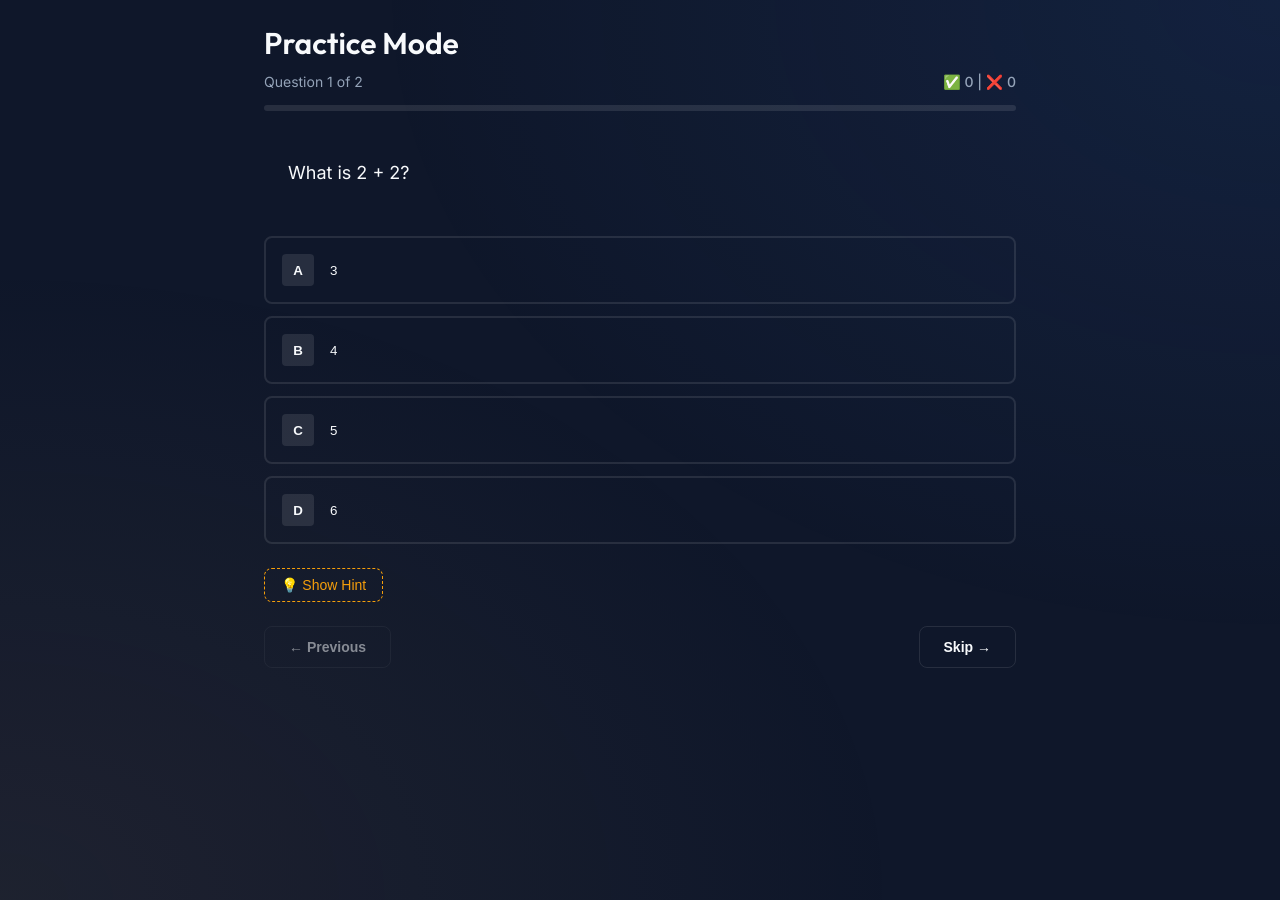
PracticeMode › shows explanation after checking answer
What coordinates should you click on to do the following:
click the button "B 4"
I would click on:
 (298, 350)
Its box is [264,316,1016,384].
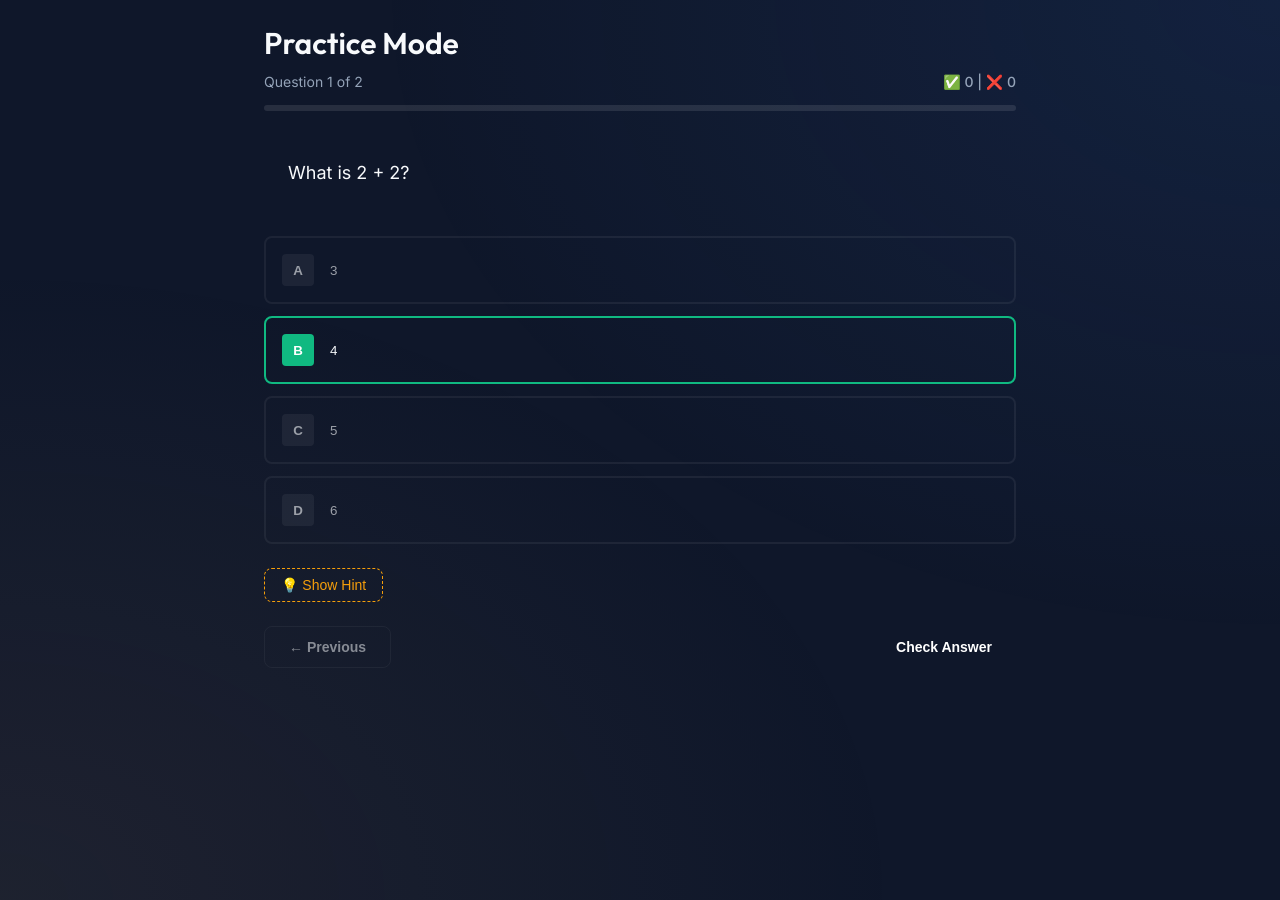
What coordinates should you click on to do the following:
click the button "Check Answer"
I would click on:
 (944, 647)
Its box is [872,626,1016,668].
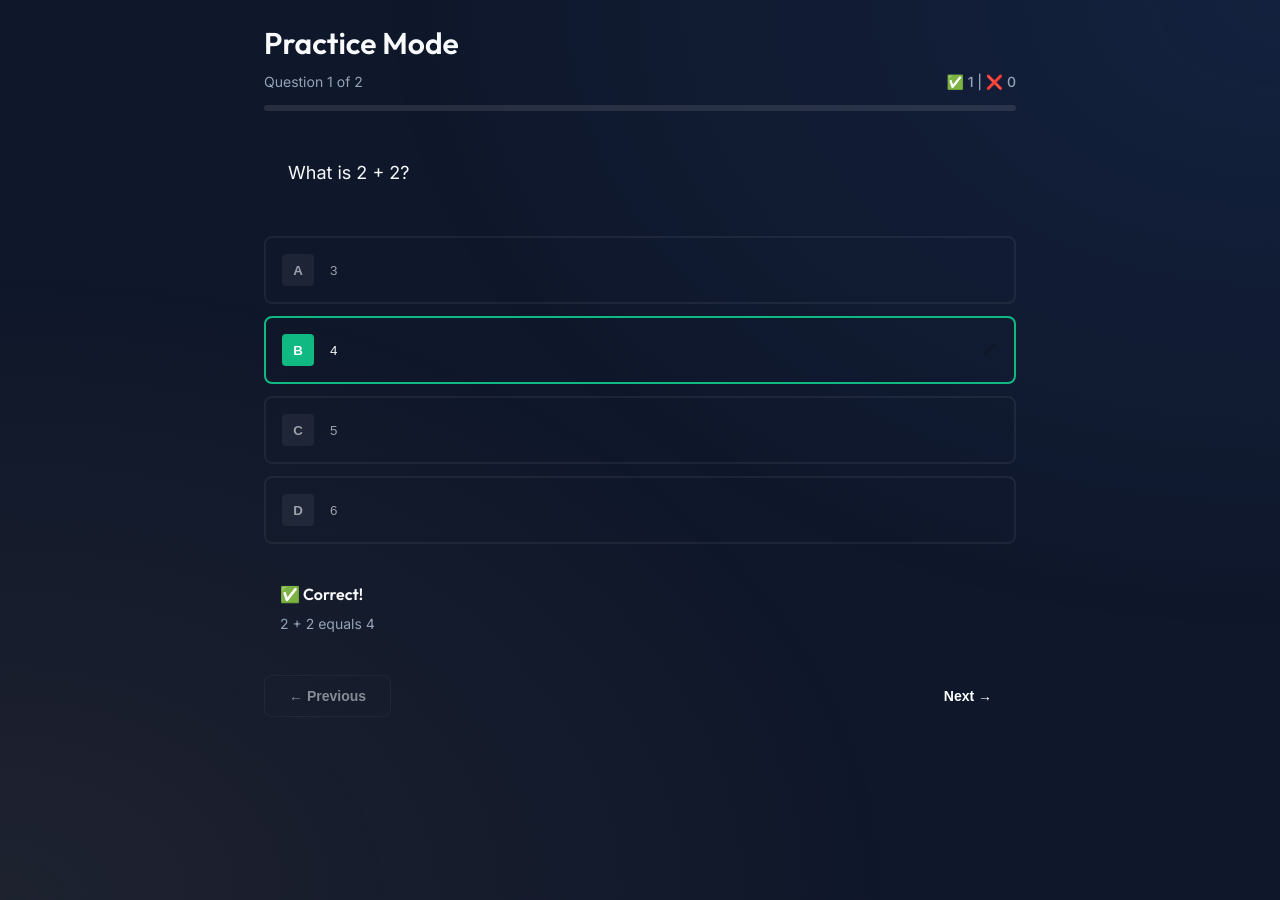
Expected: the text "2 + 2 equals 4" is shown, [280,615,375,632]
